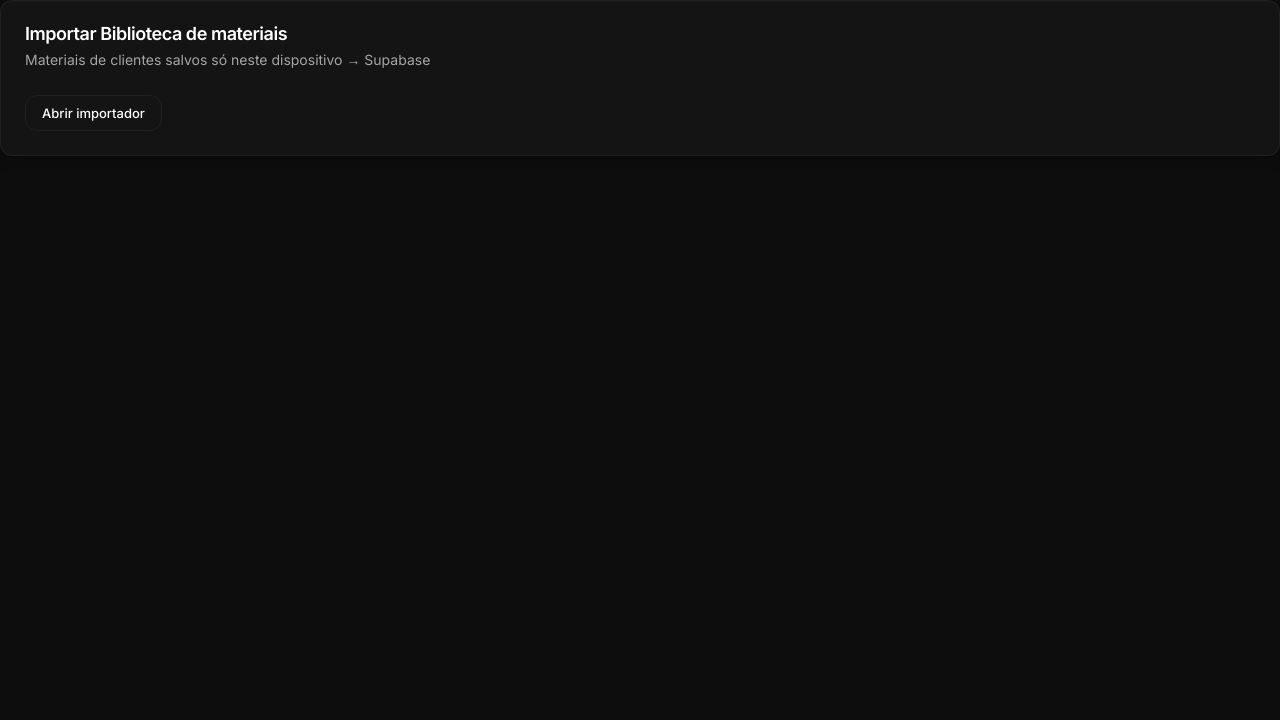
it: ClientLibraryImportCard › schema pendente: aviso legível, checkbox e botão de importar desabilitados (G29)
Click the button "Abrir importador".
click(93, 113)  # box [25,95,162,131]
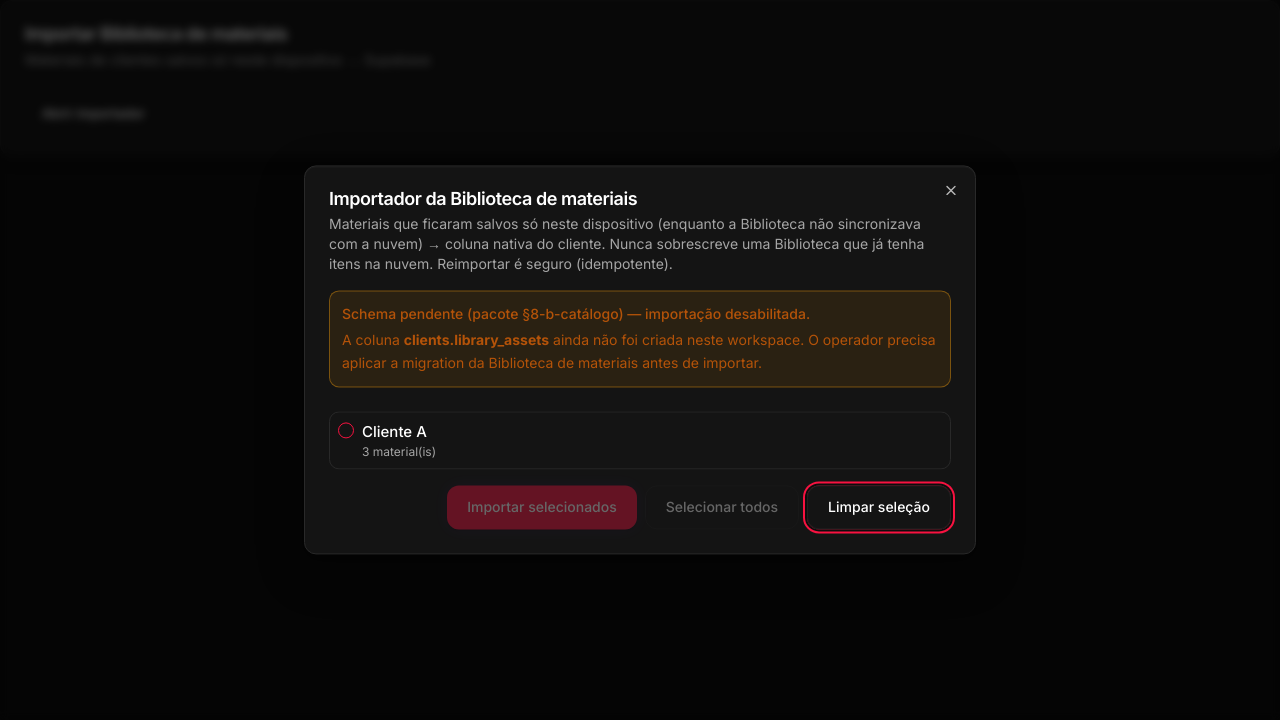
expect the message shows "Schema pendente": met, box [342,305,810,322]
expect the checkbox named "Selecionar Cliente A" is disabled: met, box [338,423,354,439]
expect the button "Importar selecionados" is disabled: met, box [447,486,637,530]
